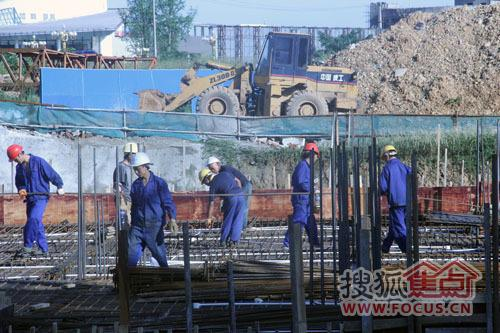helmet: (129, 153, 153, 170), (7, 143, 25, 165), (304, 142, 321, 157), (382, 145, 397, 159), (198, 170, 214, 183), (126, 143, 140, 155), (207, 157, 221, 167)
